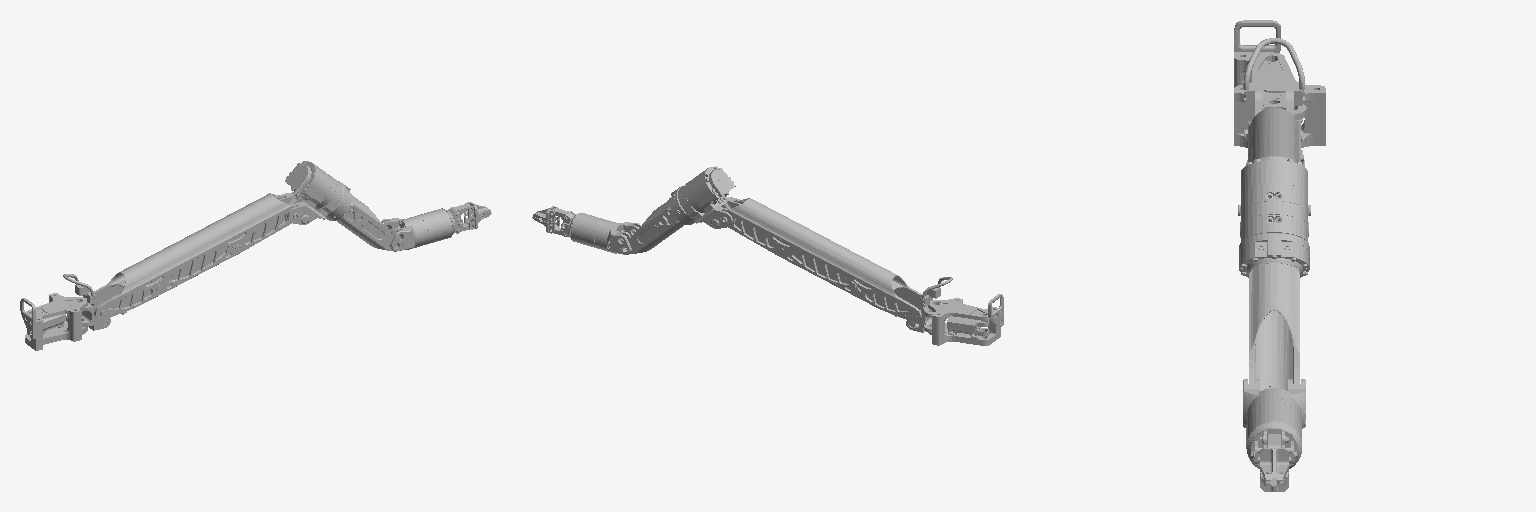
The robot description file, URDF, robot "orion":
<?xml version="1.0" encoding="utf-8"?>
<!-- This URDF was automatically created by SolidWorks to URDF Exporter! Originally created by Stephen Brawner (brawner@gmail.com) 
     Commit Version: 1.6.0-4-g7f85cfe  Build Version: 1.6.7995.38578
     For more information, please see http://wiki.ros.org/sw_urdf_exporter -->
<robot
  name="orion">
  <!-- 虚拟根链接：无惯性，满足 KDL 对根链接的要求，消除 robot_state_publisher 警告 -->
  <link
    name="base_footprint" />
  <joint
    name="base_footprint_joint"
    type="fixed">
    <parent
      link="base_footprint" />
    <child
      link="base_link" />
    <origin
      xyz="0 0 0"
      rpy="0 0 0" />
  </joint>
  <link
    name="base_link">
    <inertial>
      <origin
        xyz="-0.121761498866689 -0.00352190802531379 0.0619894440057304"
        rpy="0 0 0" />
      <mass
        value="2.06239608151247" />
      <inertia
        ixx="0.00780376582582248"
        ixy="-0.00211261260721918"
        ixz="9.21290693428216E-06"
        iyy="0.0127057089081331"
        iyz="-3.03793577239948E-07"
        izz="0.0131737655724883" />
    </inertial>
    <visual>
      <origin
        xyz="0 0 0"
        rpy="0 0 0" />
      <geometry>
        <mesh
          filename="package://orion/meshes/base_link.STL" />
      </geometry>
      <material
        name="">
        <color
          rgba="0.752941176470588 0.752941176470588 0.752941176470588 1" />
      </material>
    </visual>
    <collision>
      <origin
        xyz="0 0 0"
        rpy="0 0 0" />
      <geometry>
        <mesh
          filename="package://orion/meshes/base_link.STL" />
      </geometry>
    </collision>
  </link>
  <link
    name="Link1">
    <inertial>
      <origin
        xyz="0.0423330610051823 0.0034217887420367 0.0124931813073256"
        rpy="0 0 0" />
      <mass
        value="0.718843583644278" />
      <inertia
        ixx="0.00174123023919349"
        ixy="9.99403466130405E-05"
        ixz="0.000125926272332741"
        iyy="0.00161828894277151"
        iyz="1.6584357320346E-05"
        izz="0.00135699153110166" />
    </inertial>
    <visual>
      <origin
        xyz="0 0 0"
        rpy="0 0 0" />
      <geometry>
        <mesh
          filename="package://orion/meshes/Link1.STL" />
      </geometry>
      <material
        name="">
        <color
          rgba="0.752941176470588 0.752941176470588 0.752941176470588 1" />
      </material>
    </visual>
    <collision>
      <origin
        xyz="0 0 0"
        rpy="0 0 0" />
      <geometry>
        <mesh
          filename="package://orion/meshes/Link1.STL" />
      </geometry>
    </collision>
  </link>
  <joint
    name="joint1"
    type="revolute">
    <origin
      xyz="0 0 0.0682258053361559"
      rpy="0 0 0" />
    <parent
      link="base_link" />
    <child
      link="Link1" />
    <axis
      xyz="0 0 1" />
    <limit
      lower="-1.047"
      upper="1.047"
      effort="0"
      velocity="0" />
  </joint>
  <link
    name="Link2">
    <inertial>
      <origin
        xyz="0.438240033738344 -0.115071132732721 0.00103861817695742"
        rpy="0 0 0" />
      <mass
        value="3.51312597859259" />
      <inertia
        ixx="0.0183263800365205"
        ixy="0.0361089522603423"
        ixz="-1.64340689779561E-05"
        iyy="0.137835650010139"
        iyz="4.29633899644898E-06"
        izz="0.146188935880584" />
    </inertial>
    <visual>
      <origin
        xyz="0 0 0"
        rpy="0 0 0" />
      <geometry>
        <mesh
          filename="package://orion/meshes/Link2.STL" />
      </geometry>
      <material
        name="">
        <color
          rgba="0.752941176470588 0.752941176470588 0.752941176470588 1" />
      </material>
    </visual>
    <collision>
      <origin
        xyz="0 0 0"
        rpy="0 0 0" />
      <geometry>
        <mesh
          filename="package://orion/meshes/Link2.STL" />
      </geometry>
    </collision>
  </link>
  <joint
    name="joint2"
    type="revolute">
    <origin
      xyz="0.0698500000000001 -0.00103851012200278 0.0105395946638435"
      rpy="-1.57079632679491 0 0" />
    <parent
      link="Link1" />
    <child
      link="Link2" />
    <axis
      xyz="0 0 -1" />
    <limit
      lower="-1.047"
      upper="1.047"
      effort="0"
      velocity="0" />
  </joint>
  <link
    name="Link3">
    <inertial>
      <origin
        xyz="0.111448408078879 -0.0449086824957676 -0.00269451420620551"
        rpy="0 0 0" />
      <mass
        value="2.55779371431064" />
      <inertia
        ixx="0.00658107972410145"
        ixy="0.00123501727039897"
        ixz="1.21377611906675E-08"
        iyy="0.00694680086434895"
        iyz="-1.30012329967443E-08"
        izz="0.00442880295957647" />
    </inertial>
    <visual>
      <origin
        xyz="0 0 0"
        rpy="0 0 0" />
      <geometry>
        <mesh
          filename="package://orion/meshes/Link3.STL" />
      </geometry>
      <material
        name="">
        <color
          rgba="0.752941176470588 0.752941176470588 0.752941176470588 1" />
      </material>
    </visual>
    <collision>
      <origin
        xyz="0 0 0"
        rpy="0 0 0" />
      <geometry>
        <mesh
          filename="package://orion/meshes/Link3.STL" />
      </geometry>
    </collision>
  </link>
  <joint
    name="joint3"
    type="revolute">
    <origin
      xyz="0.866204867304421 -0.224683418449091 0.00373302642085387"
      rpy="0 0 0" />
    <parent
      link="Link2" />
    <child
      link="Link3" />
    <axis
      xyz="0 0 1" />
    <limit
      lower="-1.047"
      upper="1.047"
      effort="0"
      velocity="0" />
  </joint>
  <link
    name="Link4">
    <inertial>
      <origin
        xyz="-1.88849152118562E-05 -0.00258134819713074 0.113280858724767"
        rpy="0 0 0" />
      <mass
        value="1.60320502101545" />
      <inertia
        ixx="0.00744608667373619"
        ixy="7.79624407112571E-06"
        ixz="-1.12163436724545E-05"
        iyy="0.00808925691739042"
        iyz="0.00024562564696964"
        izz="0.00453679708842084" />
    </inertial>
    <visual>
      <origin
        xyz="0 0 0"
        rpy="0 0 0" />
      <geometry>
        <mesh
          filename="package://orion/meshes/Link4.STL" />
      </geometry>
      <material
        name="">
        <color
          rgba="0.752941176470588 0.752941176470588 0.752941176470588 1" />
      </material>
    </visual>
    <collision>
      <origin
        xyz="0 0 0"
        rpy="0 0 0" />
      <geometry>
        <mesh
          filename="package://orion/meshes/Link4.STL" />
      </geometry>
    </collision>
  </link>
  <joint
    name="joint4"
    type="revolute">
    <origin
      xyz="0.183512560517804 -0.0156688103054023 -0.00269451629885311"
      rpy="0.85521133347722 -1.57079631189374 3.02694790746321" />
    <parent
      link="Link3" />
    <child
      link="Link4" />
    <axis
      xyz="0 0 1" />
    <limit
      lower="-2.355"
      upper="2.355"
      effort="0"
      velocity="0" />
  </joint>
  <link
    name="Link5">
    <inertial>
      <origin
        xyz="-0.140210424647392 0.00805793578593085 0.00895724733740536"
        rpy="0 0 0" />
      <mass
        value="2.31328502383699" />
      <inertia
        ixx="0.00494722498148305"
        ixy="-4.86955541866495E-05"
        ixz="-4.1012489349567E-06"
        iyy="0.00519167865006555"
        iyz="-6.73245868816153E-07"
        izz="0.0044420317158258" />
    </inertial>
    <visual>
      <origin
        xyz="0 0 0"
        rpy="0 0 0" />
      <geometry>
        <mesh
          filename="package://orion/meshes/Link5.STL" />
      </geometry>
      <material
        name="">
        <color
          rgba="0.752941176470588 0.752941176470588 0.752941176470588 1" />
      </material>
    </visual>
    <collision>
      <origin
        xyz="0 0 0"
        rpy="0 0 0" />
      <geometry>
        <mesh
          filename="package://orion/meshes/Link5.STL" />
      </geometry>
    </collision>
  </link>
  <joint
    name="joint5"
    type="revolute">
    <origin
      xyz="-0.00909138906845681 0.000999405814319343 0.378399318984799"
      rpy="-1.5707963267949 0.830229739444263 -1.5707963267949" />
    <parent
      link="Link4" />
    <child
      link="Link5" />
    <axis
      xyz="0 0 -1" />
    <limit
      lower="-1.047"
      upper="1.047"
      effort="0"
      velocity="0" />
  </joint>
  <link
    name="Link6">
    <inertial>
      <origin
        xyz="-8.07831374590623E-10 2.65185221004494E-10 0.0127375338068656"
        rpy="0 0 0" />
      <mass
        value="0.274922058948043" />
      <inertia
        ixx="0.000225716619132977"
        ixy="-2.05642131407224E-11"
        ixz="2.53321970197874E-12"
        iyy="0.000224669196739376"
        iyz="-4.22256833990629E-14"
        izz="0.000319090164605832" />
    </inertial>
    <visual>
      <origin
        xyz="0 0 0"
        rpy="0 0 0" />
      <geometry>
        <mesh
          filename="package://orion/meshes/Link6.STL" />
      </geometry>
      <material
        name="">
        <color
          rgba="0.752941176470588 0.752941176470588 0.752941176470588 1" />
      </material>
    </visual>
    <collision>
      <origin
        xyz="0 0 0"
        rpy="0 0 0" />
      <geometry>
        <mesh
          filename="package://orion/meshes/Link6.STL" />
      </geometry>
    </collision>
  </link>
  <joint
    name="joint6"
    type="revolute">
    <origin
      xyz="-0.251639254104642 0.0112889484774294 0.00909138906845557"
      rpy="-2.48993933917788 -1.57079631189374 2.44510776313105" />
    <parent
      link="Link5" />
    <child
      link="Link6" />
    <axis
      xyz="0 0 1" />
    <limit
      lower="-3.14"
      upper="3.14"
      effort="0"
      velocity="0" />
  </joint>
  <link
    name="Link7">
    <inertial>
      <origin
        xyz="0.0616612022608383 0.0133638351403898 -0.00370231940450728"
        rpy="0 0 0" />
      <mass
        value="0.131276885465317" />
      <inertia
        ixx="4.47602338848857E-05"
        ixy="-7.28323329339543E-06"
        ixz="2.19434547211949E-11"
        iyy="0.00010741684530466"
        iyz="-7.13667411906228E-12"
        izz="9.93502743616739E-05" />
    </inertial>
    <visual>
      <origin
        xyz="0 0 0"
        rpy="0 0 0" />
      <geometry>
        <mesh
          filename="package://orion/meshes/Link7.STL" />
      </geometry>
      <material
        name="">
        <color
          rgba="0.752941176470588 0.752941176470588 0.752941176470588 1" />
      </material>
    </visual>
    <collision>
      <origin
        xyz="0 0 0"
        rpy="0 0 0" />
      <geometry>
        <mesh
          filename="package://orion/meshes/Link7.STL" />
      </geometry>
    </collision>
  </link>
  <joint
    name="joint7"
    type="revolute">
    <origin
      xyz="-0.00370231951955372 -0.0362712000000091 0.0499058495855109"
      rpy="1.57079632679489 -1.52596475074807 -1.57079632679489" />
    <parent
      link="Link6" />
    <child
      link="Link7" />
    <axis
      xyz="0 0 1" />
    <limit
      lower="-3.14"
      upper="3.14"
      effort="0"
      velocity="0" />
  </joint>
  <link
    name="Link8">
    <inertial>
      <origin
        xyz="0.062610146437502 -0.00778881957431456 -0.00145296495342849"
        rpy="0 0 0" />
      <mass
        value="0.131276888646293" />
      <inertia
        ixx="4.39635286157899E-05"
        ixy="1.5785117544818E-06"
        ixz="-2.18830602990758E-11"
        iyy="0.000108213554373007"
        iyz="-8.76001150075588E-12"
        izz="9.93502779782207E-05" />
    </inertial>
    <visual>
      <origin
        xyz="0 0 0"
        rpy="0 0 0" />
      <geometry>
        <mesh
          filename="package://orion/meshes/Link8.STL" />
      </geometry>
      <material
        name="">
        <color
          rgba="0.752941176470588 0.752941176470588 0.752941176470588 1" />
      </material>
    </visual>
    <collision>
      <origin
        xyz="0 0 0"
        rpy="0 0 0" />
      <geometry>
        <mesh
          filename="package://orion/meshes/Link8.STL" />
      </geometry>
    </collision>
  </link>
  <joint
    name="joint8"
    type="revolute">
    <origin
      xyz="-0.00145296512901593 0.0362711999999911 0.049905849585508"
      rpy="1.57079632679489 -1.52596475074807 -1.57079632679489" />
    <parent
      link="Link6" />
    <child
      link="Link8" />
    <axis
      xyz="0 0 1" />
    <limit
      lower="-3.14"
      upper="3.14"
      effort="0"
      velocity="0" />
  </joint>
</robot>

--- Facts derived from the render (not from the file) ---
3 views of the same robot in one strip: view 1: azimuth 30°, elevation 25°; view 2: azimuth 150°, elevation 25°; view 3: azimuth 270°, elevation 25° (orthographic).
Robot: orion — 10 links, 9 joints (8 revolute, 1 fixed); root link base_footprint; default pose: every joint at zero.
Visible links, largest first — view 1: Link2, base_link, Link3, Link5, Link4, Link1; view 2: Link2, base_link, Link3, Link5, Link4, Link1; view 3: Link4, Link3, base_link, Link5, Link2, Link1, Link6, Link8.
Boxes of the visible links, x1,y1,x2,y2 form: Link2: [94, 193, 295, 320]; base_link: [20, 293, 87, 350]; Link3: [279, 161, 342, 224]; Link5: [381, 208, 452, 251]; Link4: [325, 181, 398, 250]; Link1: [63, 274, 110, 330]; Link2: [725, 198, 922, 322]; base_link: [928, 294, 1003, 345]; Link3: [678, 166, 740, 228]; Link5: [571, 213, 640, 254]; Link4: [624, 186, 694, 253]; Link1: [906, 277, 952, 332]; Link4: [1239, 233, 1309, 390]; Link3: [1238, 156, 1310, 241]; base_link: [1234, 20, 1325, 147]; Link5: [1243, 379, 1305, 448]; Link2: [1247, 107, 1304, 166]; Link1: [1243, 38, 1306, 154]; Link6: [1246, 422, 1301, 468]; Link8: [1260, 434, 1288, 481].
Bounding box of the posed robot: 2.12 × 0.1969 × 0.4822 m (x, y, z).
9 mesh visuals loaded from 9 distinct referenced files (9 binary STL).
